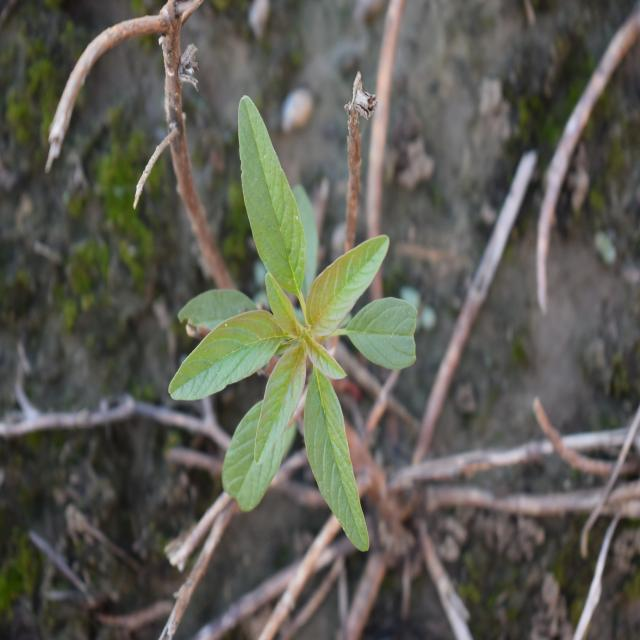Waterhemp: (166, 92, 419, 554)
